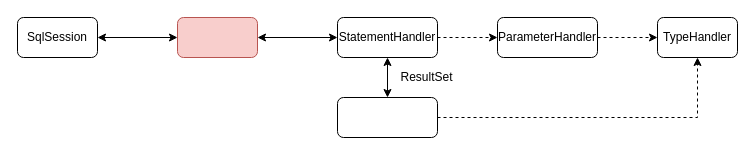
The diagram is 755 pixels wide and 155 high, and some of its shapes have lost their labels. Each missing label, with the box of its shape:
Execute: (176, 16, 258, 58)
ResultSetHandler: (336, 96, 438, 138)
